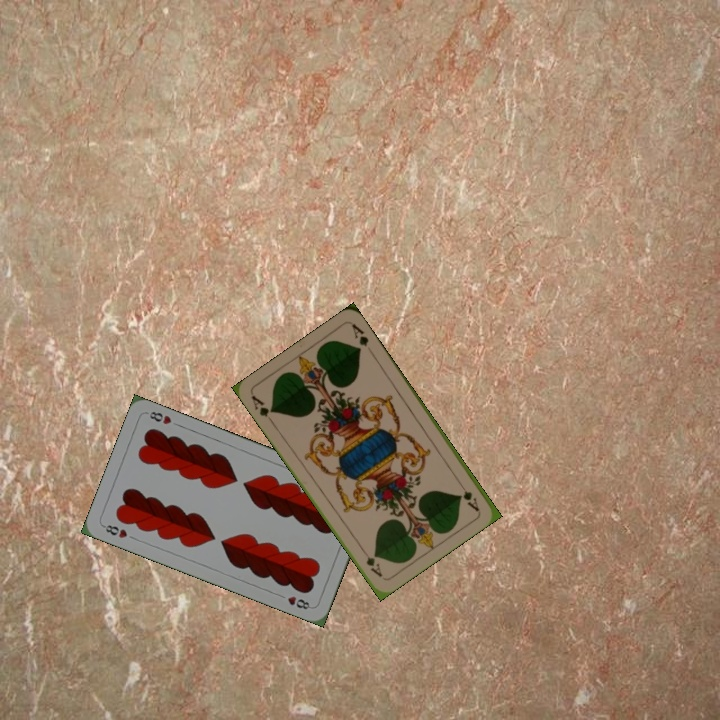GA: (247, 391, 277, 426), (454, 477, 482, 514)
H8: (99, 521, 130, 541)
